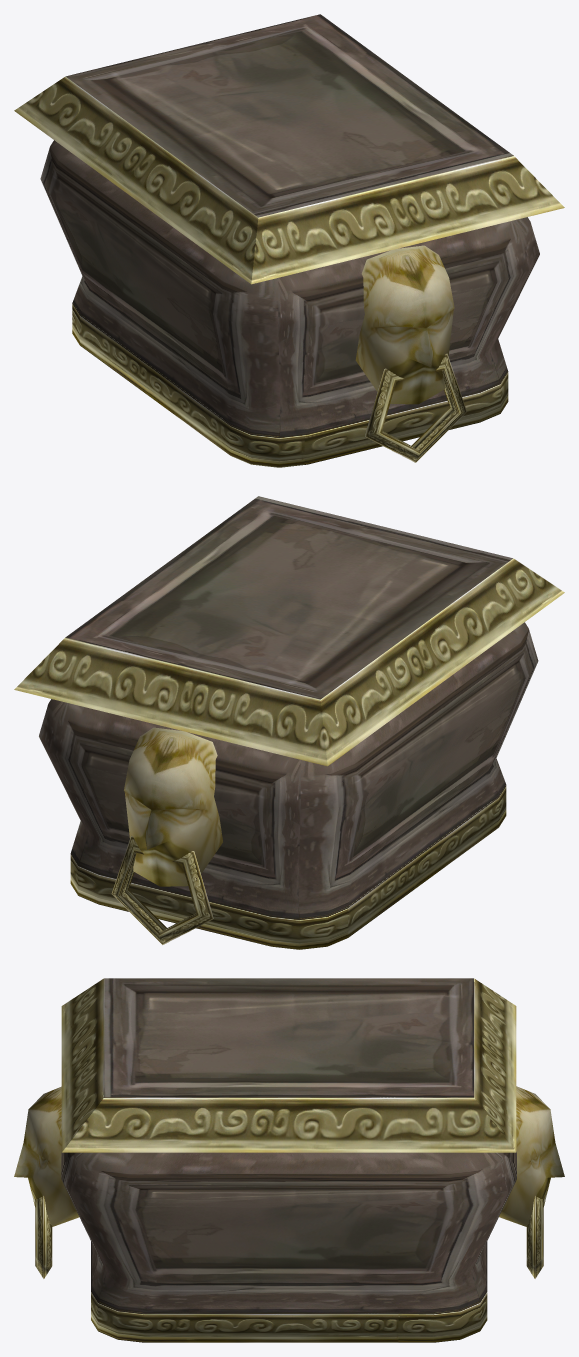
File: titanchest.obj
3 renders of one model, top to bottom at view 1: azimuth 30°, elevation 25°; view 2: azimuth 150°, elevation 25°; view 3: azimuth 270°, elevation 25°, orthographic. The views are drawn at different scales.
Visible parts, largest first — view 1: titanchest; view 2: titanchest; view 3: titanchest.
Boxes of the visible parts, x1,y1,x2,y2 form: titanchest: [14, 14, 564, 467]; titanchest: [14, 496, 564, 949]; titanchest: [14, 978, 564, 1342].
Size of the model in its own units: 3.06 by 2.35 by 4.84.
Materials: 1 (1 with a texture image).
